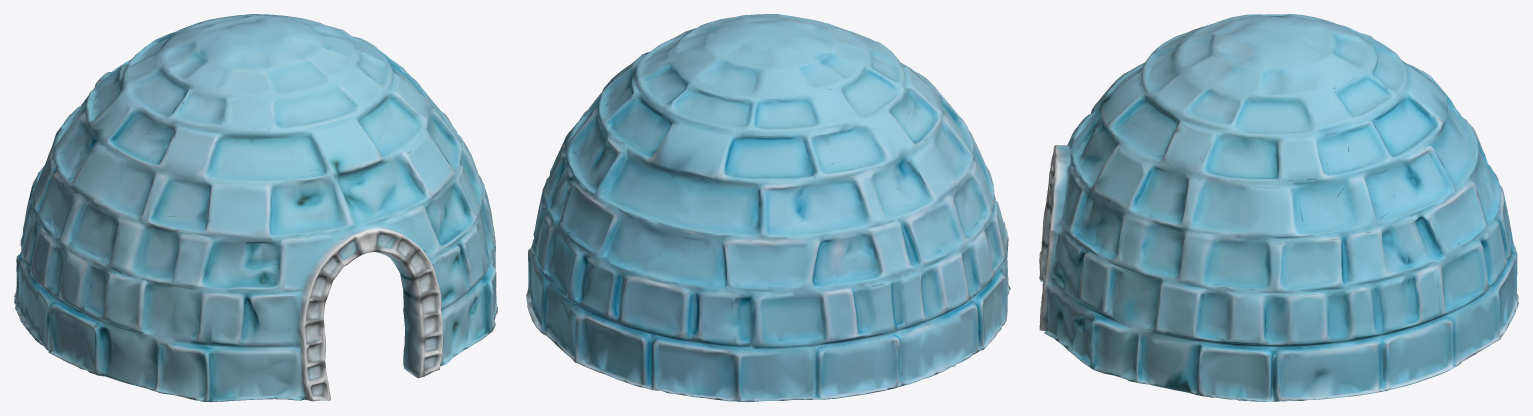
File: refined_model.fbx
3 views of the same model, side by side, from view 1: azimuth 30°, elevation 25°; view 2: azimuth 150°, elevation 25°; view 3: azimuth 270°, elevation 25° (orthographic).
Visible parts, largest first — view 1: Mesh1.0; view 2: Mesh1.0; view 3: Mesh1.0.
Boxes of the visible parts, bbox=[...] form: Mesh1.0: bbox=[14, 14, 497, 401]; Mesh1.0: bbox=[526, 14, 1010, 401]; Mesh1.0: bbox=[1039, 14, 1518, 401].
Bounding box in the file's own units: 189 × 115 × 186.
Materials: 1 (1 with a texture image).
